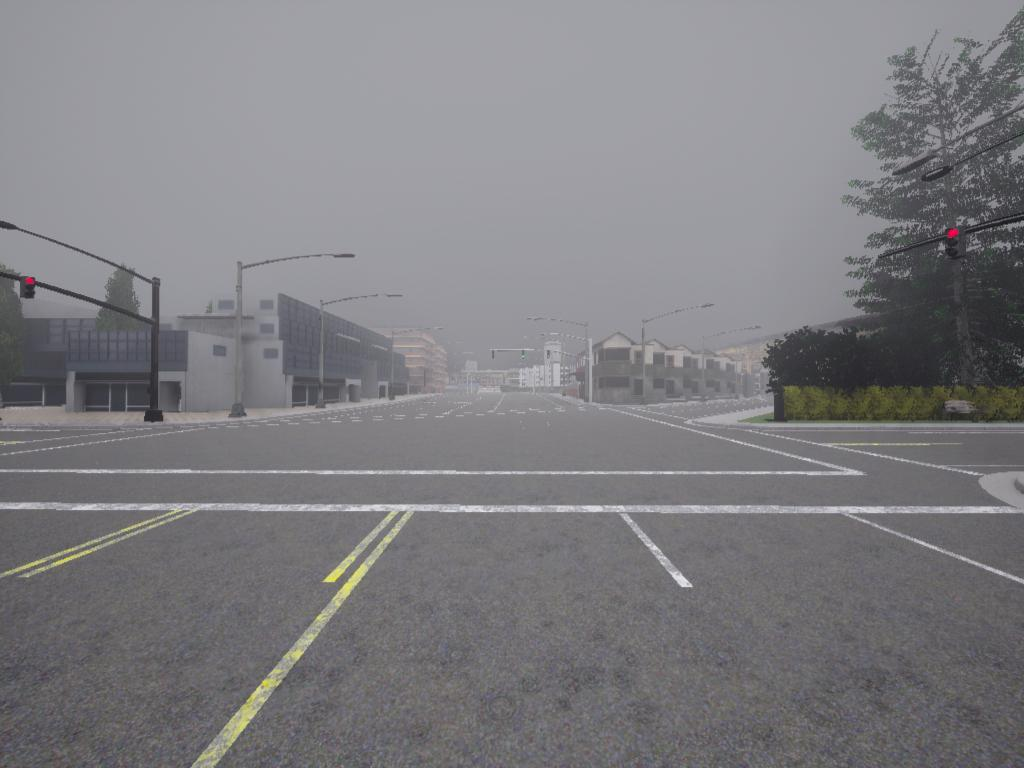traffic_light: (942, 226, 964, 259), (22, 277, 38, 300), (547, 349, 552, 361), (522, 351, 526, 362), (493, 351, 496, 360)
